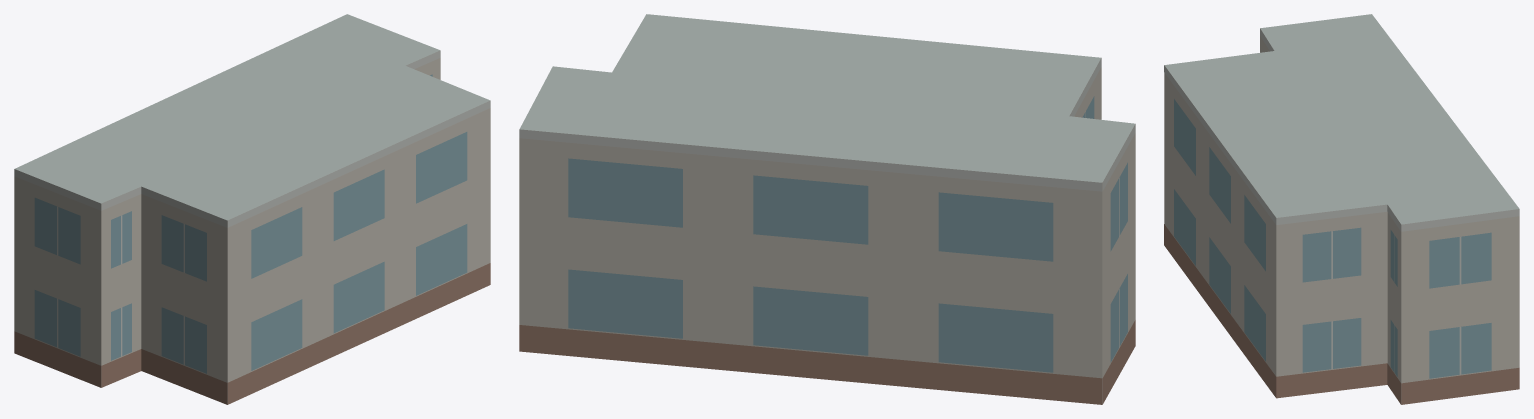
Rendered from survey-upis-32611015.glb.
3 renders of one model, left to right at view 1: azimuth 30°, elevation 25°; view 2: azimuth 150°, elevation 25°; view 3: azimuth 270°, elevation 25°, orthographic. The views are drawn at different scales.
Visible parts, largest first — view 1: survey-upis-32611015.tmp; view 2: survey-upis-32611015.tmp; view 3: survey-upis-32611015.tmp.
Part boxes in pixels (bbox=[...]): survey-upis-32611015.tmp: bbox=[14, 14, 490, 404]; survey-upis-32611015.tmp: bbox=[519, 14, 1135, 404]; survey-upis-32611015.tmp: bbox=[1164, 14, 1519, 404].
Bounding box in the file's own units: 15.29 × 6.1 × 10.91.
